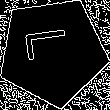L_E: (25, 33, 80, 71)
